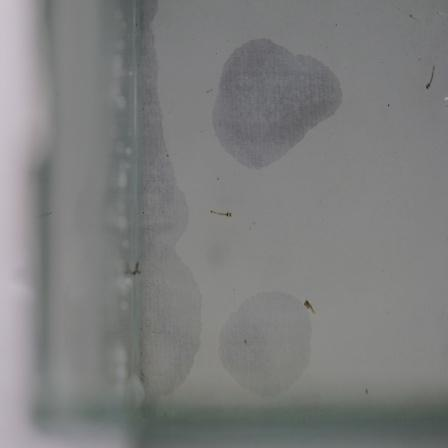Jentik-Nyamuk: (421, 63, 439, 93), (301, 296, 321, 319), (129, 256, 146, 282), (207, 206, 236, 221)
